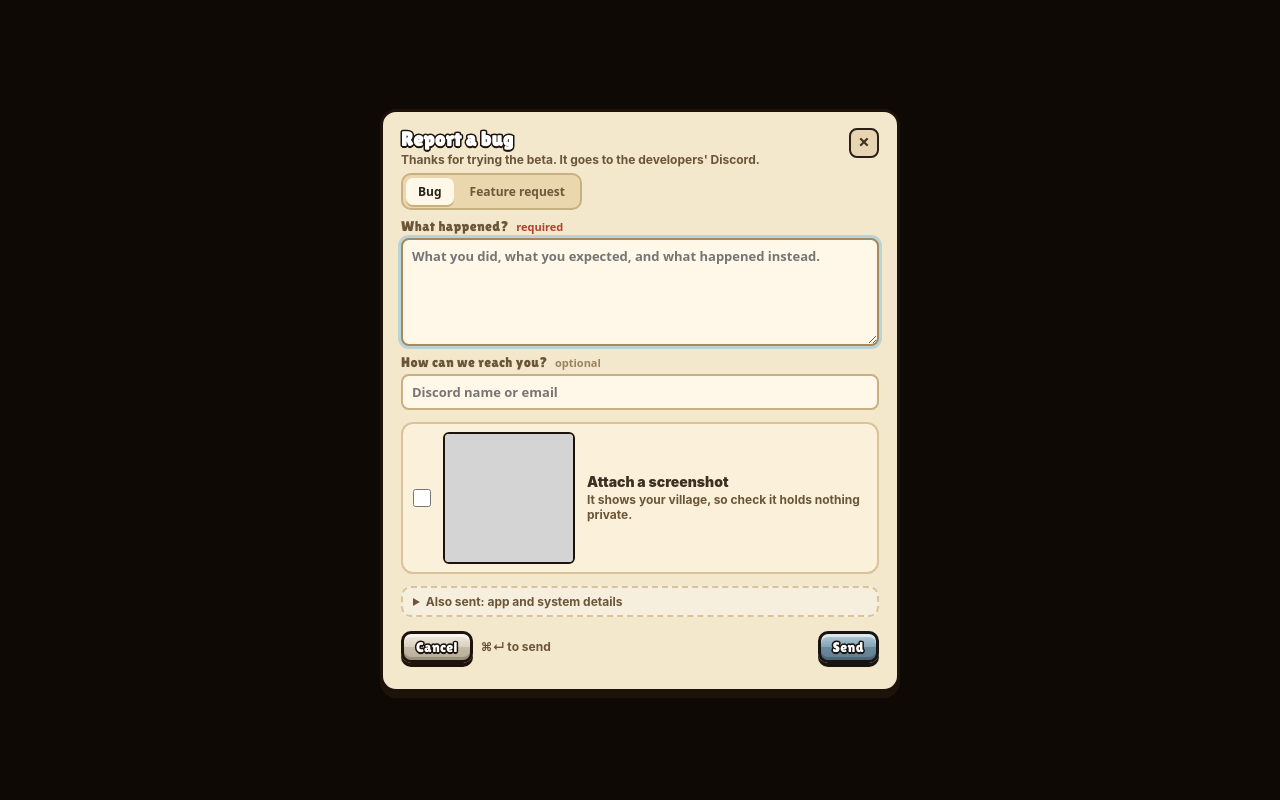
Test: a ticked screenshot goes along; a failure keeps the report and says why
Type "It froze" into the text box with placeholder "What you did, what you expected, and what happened instead." at (640, 292), box x1=401 y1=238 x2=879 y2=346
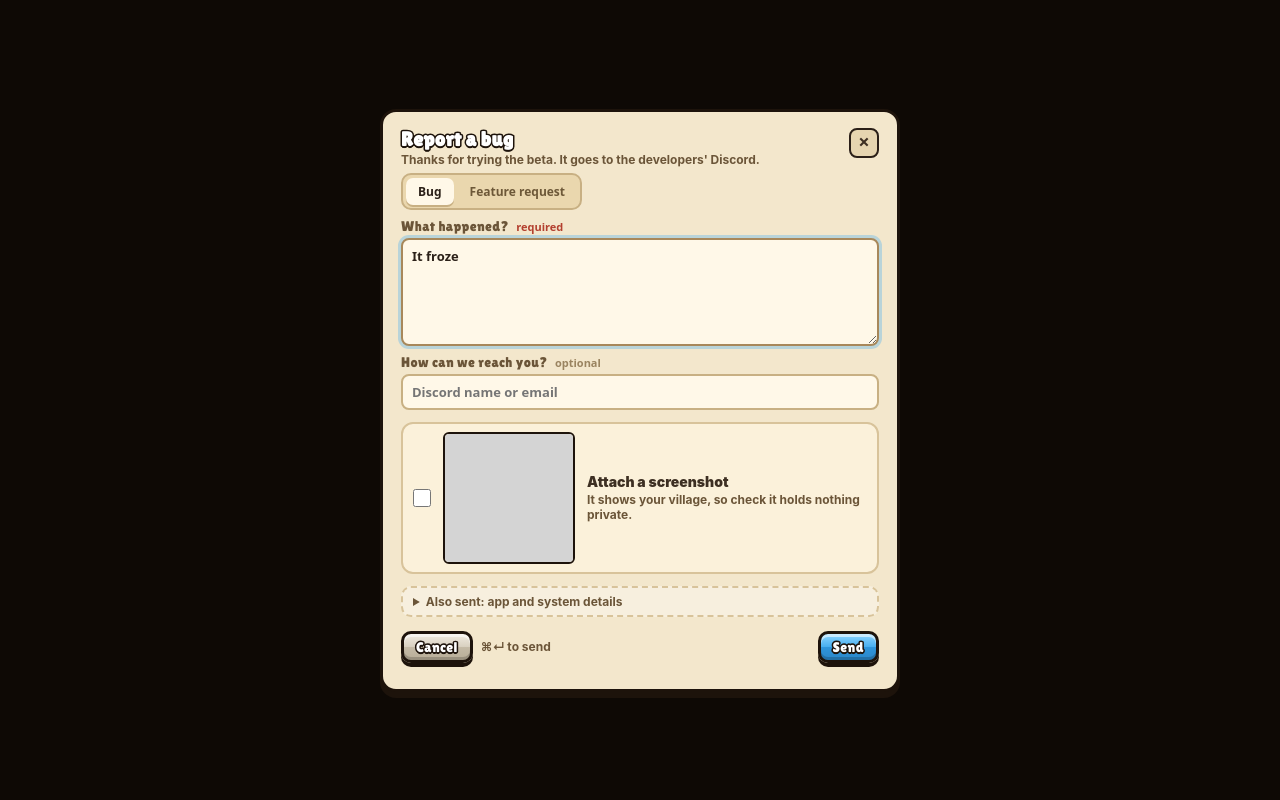
Click the checkbox at (422, 498), box x1=413 y1=488 x2=431 y2=506
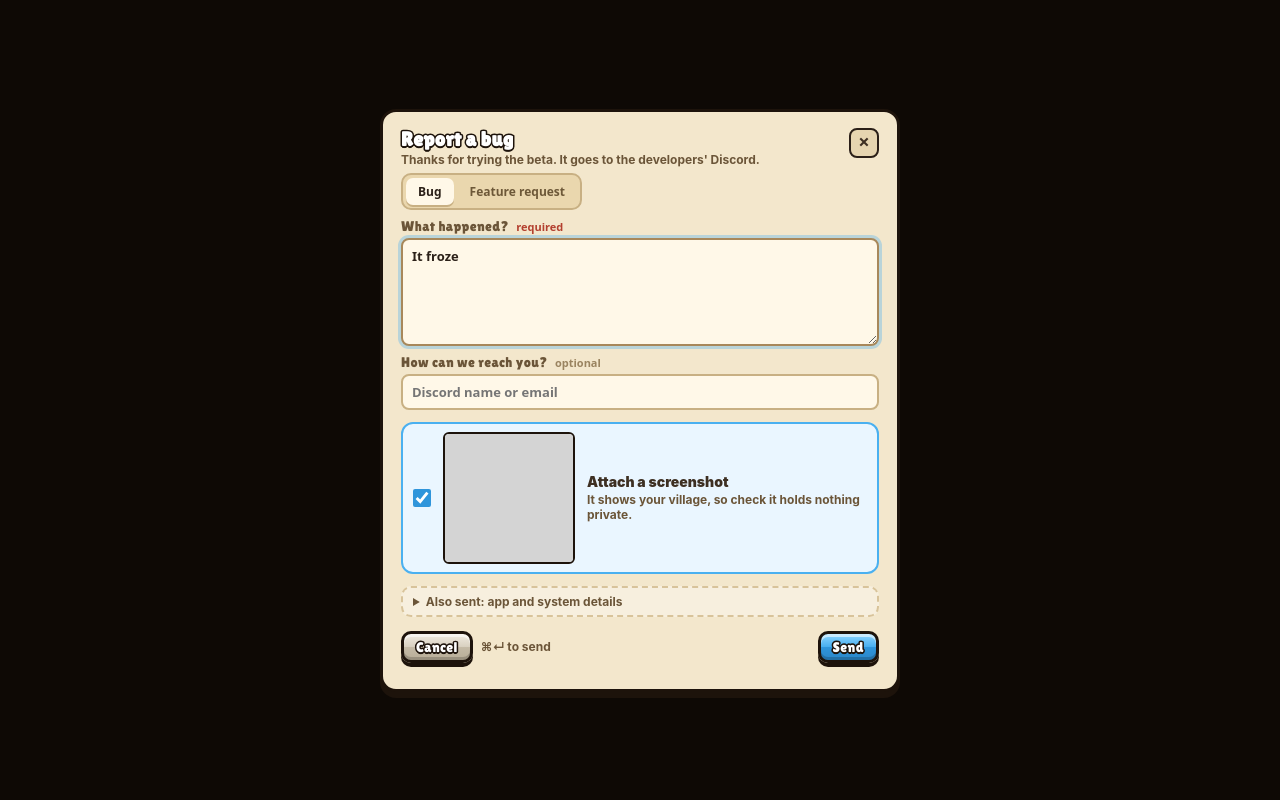
Click the button "Send" at (848, 646), box x1=818 y1=630 x2=879 y2=662
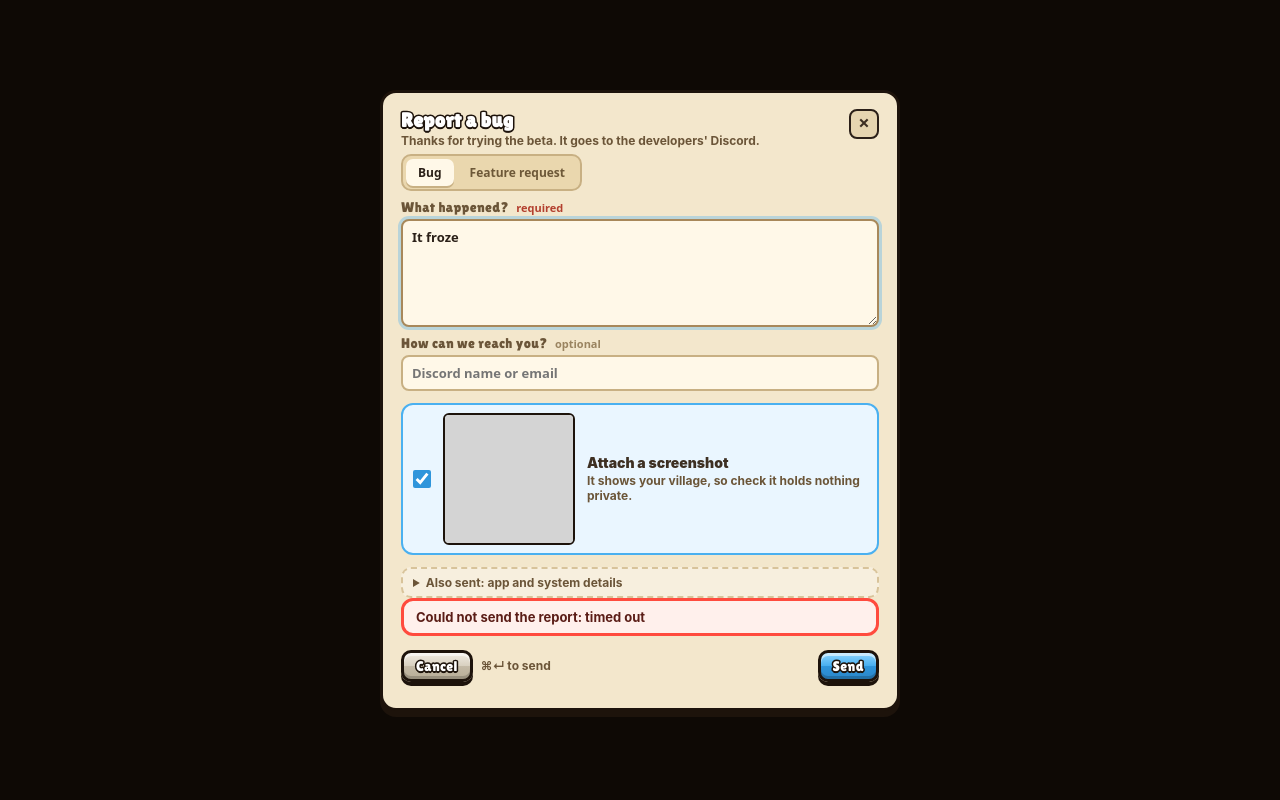
Now the text "Could not send the report: timed out" is shown, box x1=401 y1=598 x2=879 y2=636
